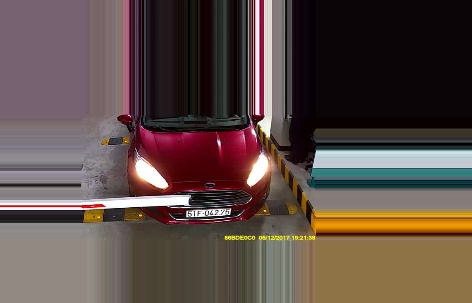plate: (184, 204, 231, 218)
